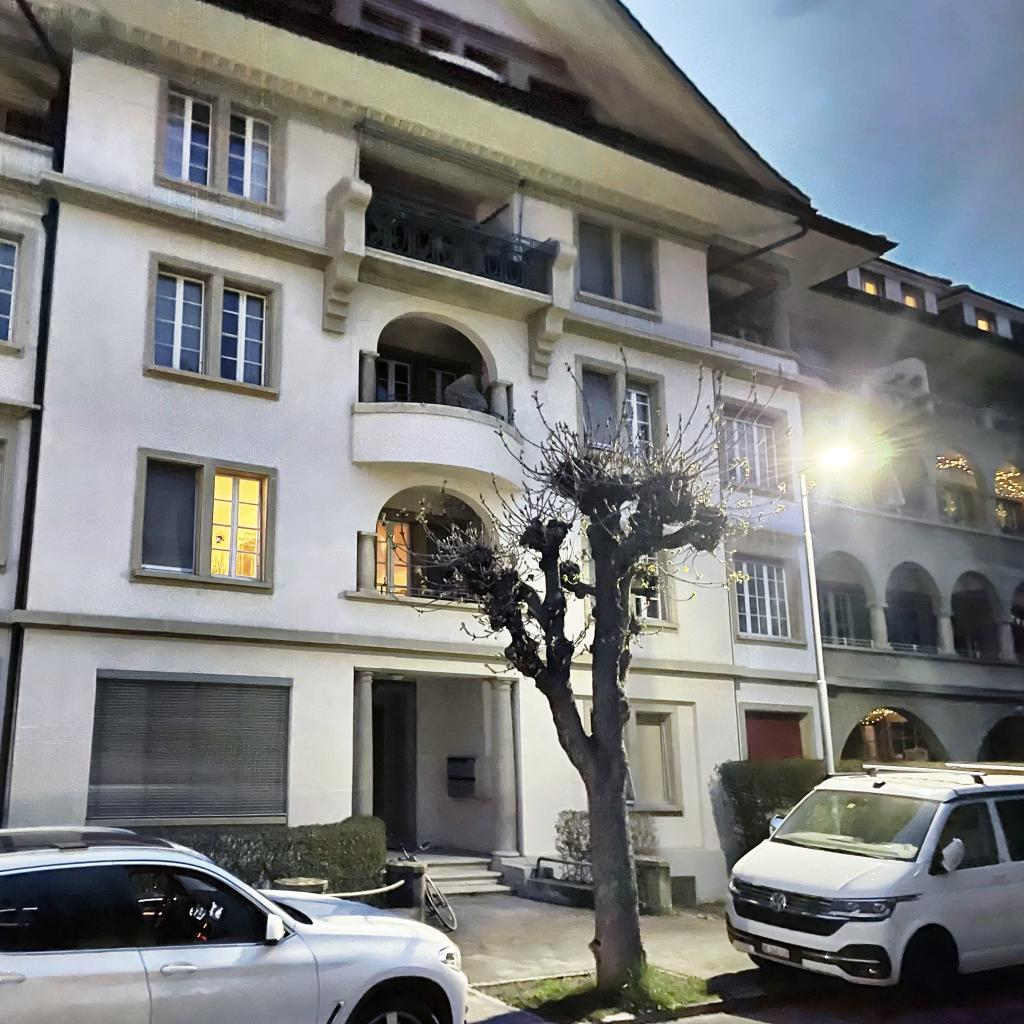balcony-fence: (365, 190, 556, 294), (806, 488, 1024, 539), (821, 636, 1023, 662), (374, 394, 504, 422), (374, 584, 480, 604)
car: (0, 825, 468, 1024), (724, 762, 1024, 1002)
fence: (272, 859, 428, 922), (636, 858, 724, 915), (526, 875, 592, 910)
street: (425, 891, 1024, 1024)
traffic-infrastructure: (800, 432, 897, 835)
vegetation: (377, 345, 814, 1024), (708, 759, 1024, 874), (127, 813, 388, 894)
window: (86, 679, 290, 818), (360, 1, 510, 82), (141, 458, 199, 576), (210, 469, 265, 579), (155, 268, 206, 374), (163, 90, 213, 187), (734, 559, 792, 639), (220, 286, 266, 386), (723, 417, 781, 492), (227, 110, 272, 204), (709, 286, 774, 348), (582, 366, 621, 452), (578, 214, 615, 300), (376, 519, 414, 598), (619, 230, 656, 311), (636, 713, 669, 803), (746, 712, 804, 761), (629, 550, 664, 622), (426, 523, 457, 598), (626, 387, 655, 463), (817, 590, 855, 647), (0, 237, 20, 342), (375, 358, 410, 402), (891, 721, 929, 754), (428, 369, 457, 405), (860, 267, 886, 298), (901, 282, 926, 312), (974, 306, 997, 335)
